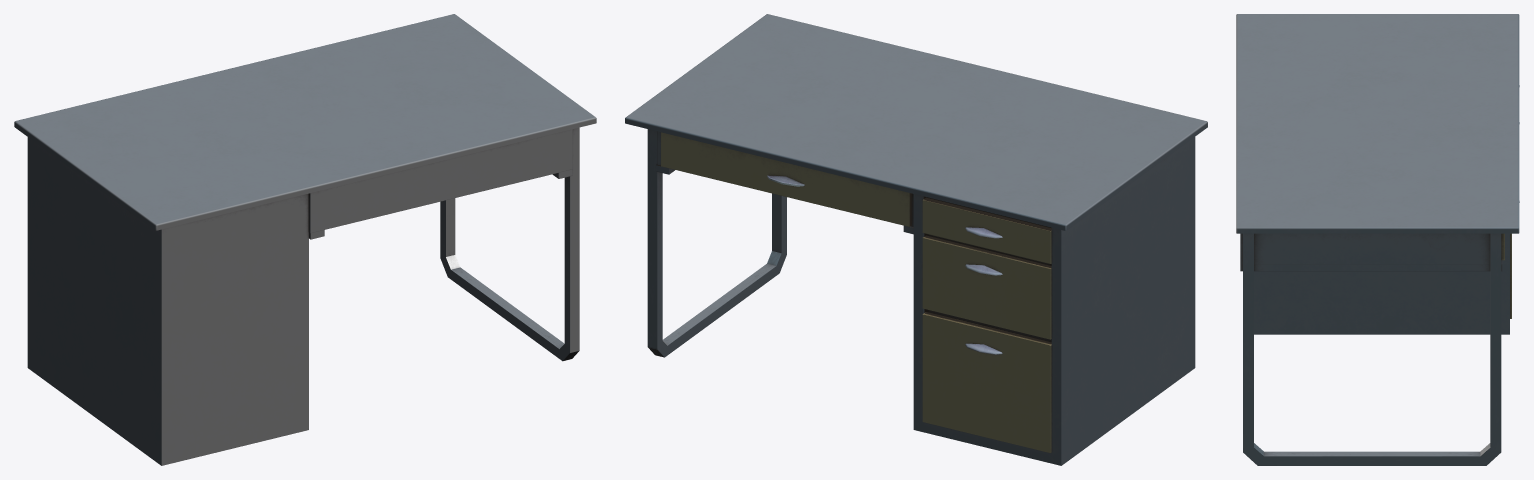
The model's file is officedeskmetallic.glb.
3 renders of one model, left to right at view 1: azimuth 30°, elevation 25°; view 2: azimuth 150°, elevation 25°; view 3: azimuth 270°, elevation 25°, orthographic.
Visible parts, largest first — view 1: Cube; view 2: Cube; view 3: Cube.
Boxes of the visible parts, x1,y1,x2,y2 form: Cube: (14, 14, 596, 465); Cube: (625, 14, 1207, 465); Cube: (1236, 14, 1519, 465).
Size of the model in its own units: 1.73 by 0.9237 by 0.9691.
1 material, 1 textured.
